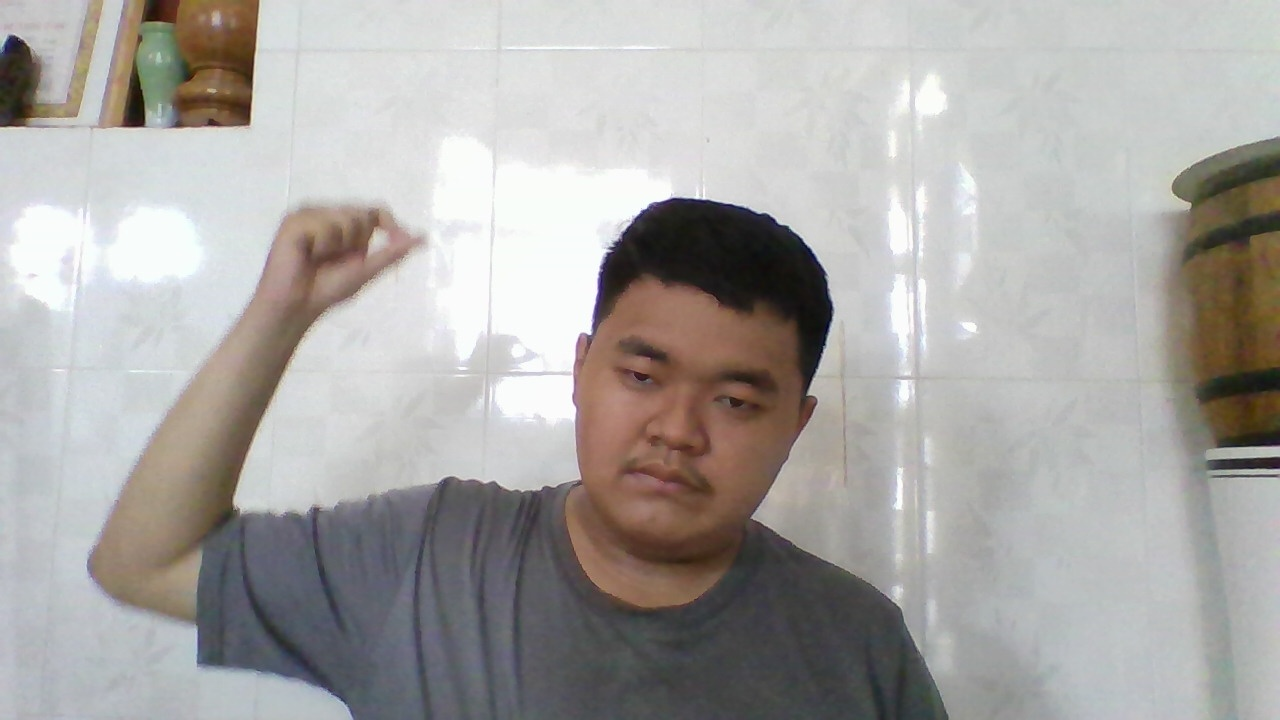S: (277, 193, 432, 321)
